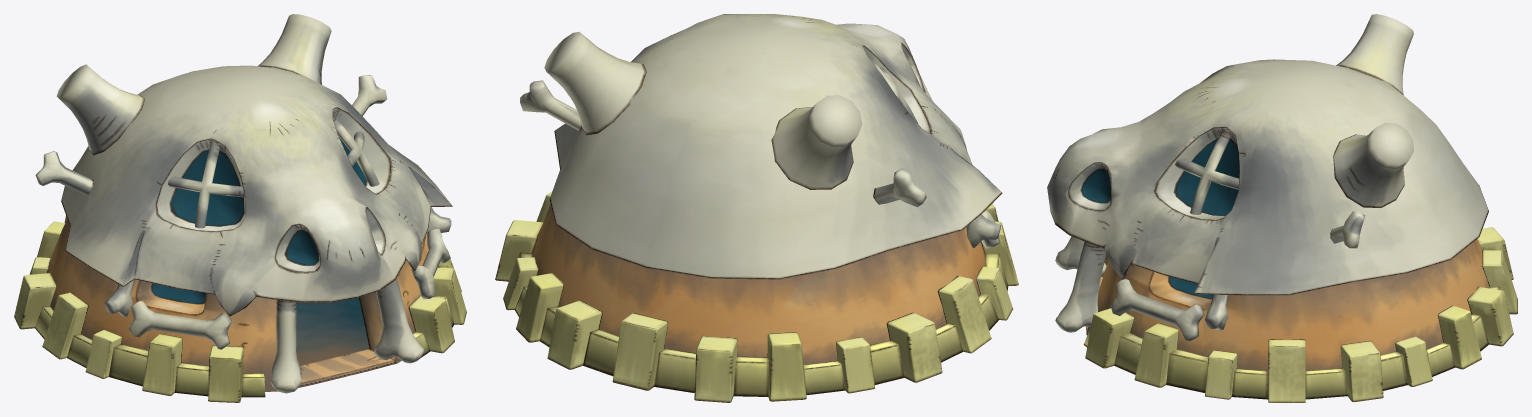
File: cubone_house.glb
The picture shows the model from 3 angles, left to right: view 1: azimuth 30°, elevation 25°; view 2: azimuth 150°, elevation 25°; view 3: azimuth 270°, elevation 25°; orthographic projection. The views are drawn at different scales.
Visible parts, largest first — view 1: Object_2; view 2: Object_2; view 3: Object_2.
Part boxes in pixels (x1,y1,x2,y2): Object_2: [14, 14, 466, 402]; Object_2: [495, 14, 1018, 402]; Object_2: [1047, 14, 1517, 402].
Bounding box in the file's own units: 4.39 × 2.52 × 4.52.
Materials: 1 (1 with a texture image).
